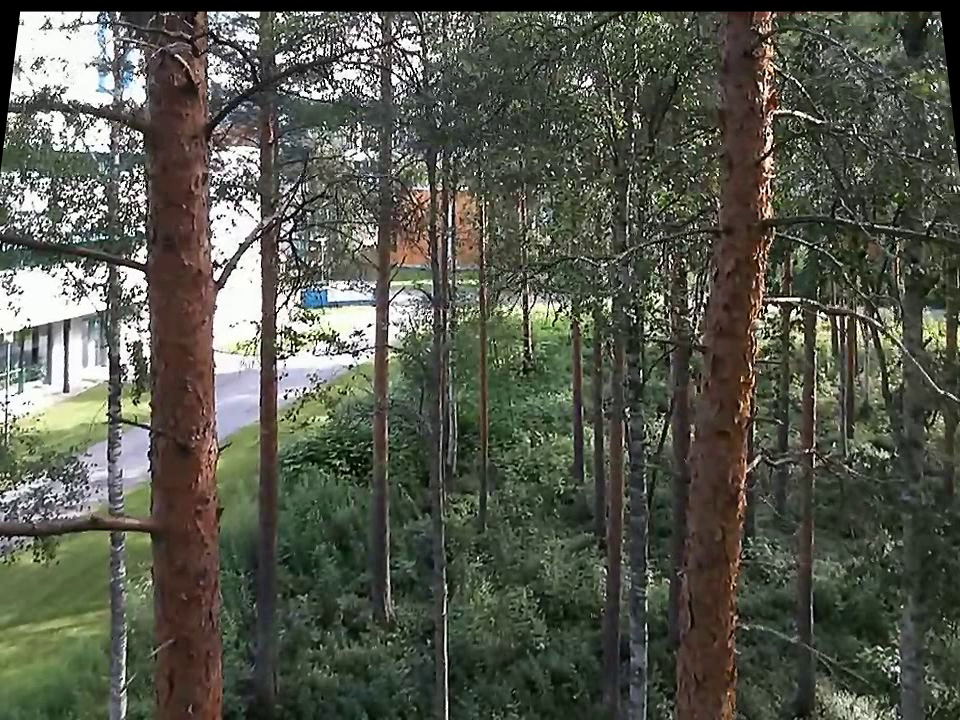branch: (769, 283, 951, 399), (538, 215, 719, 274), (5, 222, 142, 278), (777, 206, 949, 249), (1, 500, 147, 547), (13, 91, 139, 134)
trunk: (655, 18, 789, 718), (151, 14, 231, 719), (253, 19, 284, 707), (778, 290, 827, 710), (366, 23, 400, 623), (423, 164, 455, 716), (103, 273, 132, 717), (596, 324, 629, 700), (472, 213, 494, 526), (513, 181, 541, 376), (564, 305, 591, 474)
